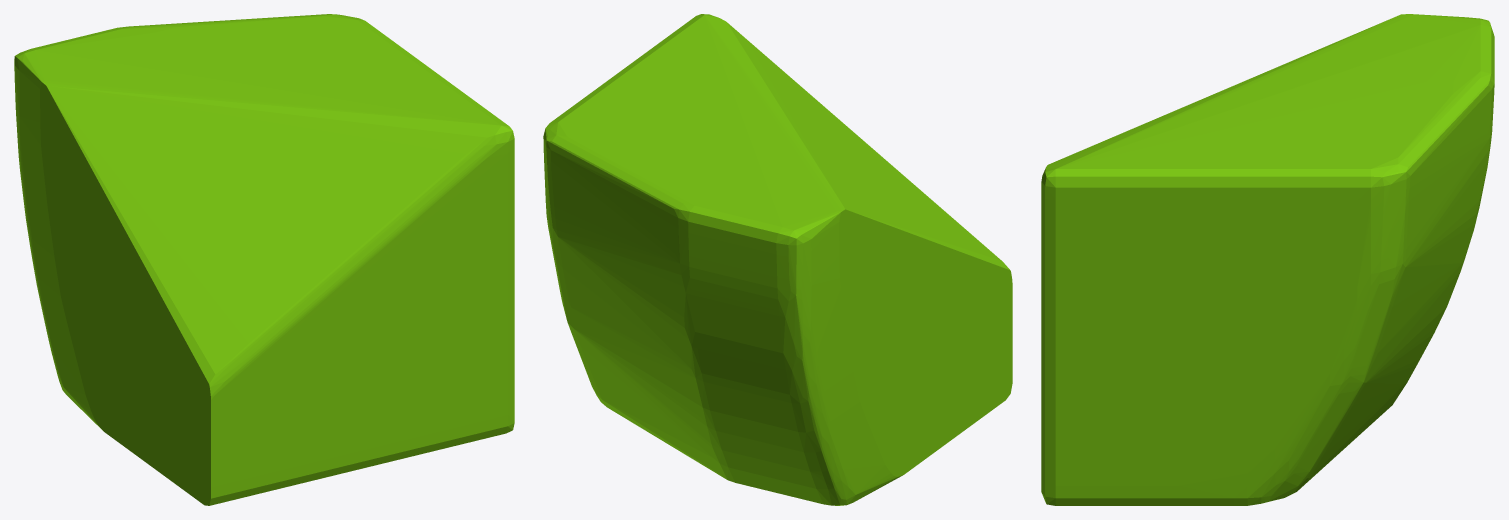
File: left_hip_yaw_link_part_4.obj
The picture shows the model from 3 angles, left to right: view 1: azimuth 30°, elevation 25°; view 2: azimuth 150°, elevation 25°; view 3: azimuth 270°, elevation 25°; orthographic projection. The views are drawn at different scales.
Size of the model in its own units: 0.035 by 0.0333 by 0.0407.
